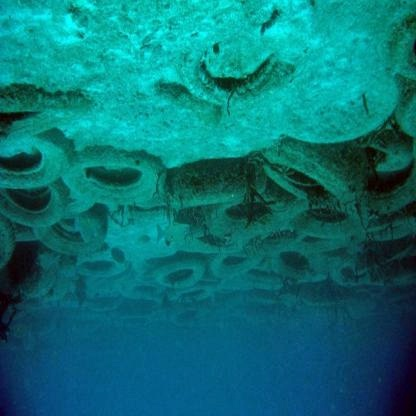tire: (175, 30, 289, 110), (64, 149, 161, 208), (270, 133, 346, 205), (362, 127, 416, 216), (213, 203, 302, 247), (0, 179, 68, 236), (1, 125, 64, 186), (290, 200, 366, 242), (37, 212, 109, 255), (70, 252, 134, 284), (327, 251, 380, 288), (214, 242, 268, 276), (151, 257, 205, 291), (271, 247, 318, 284)
